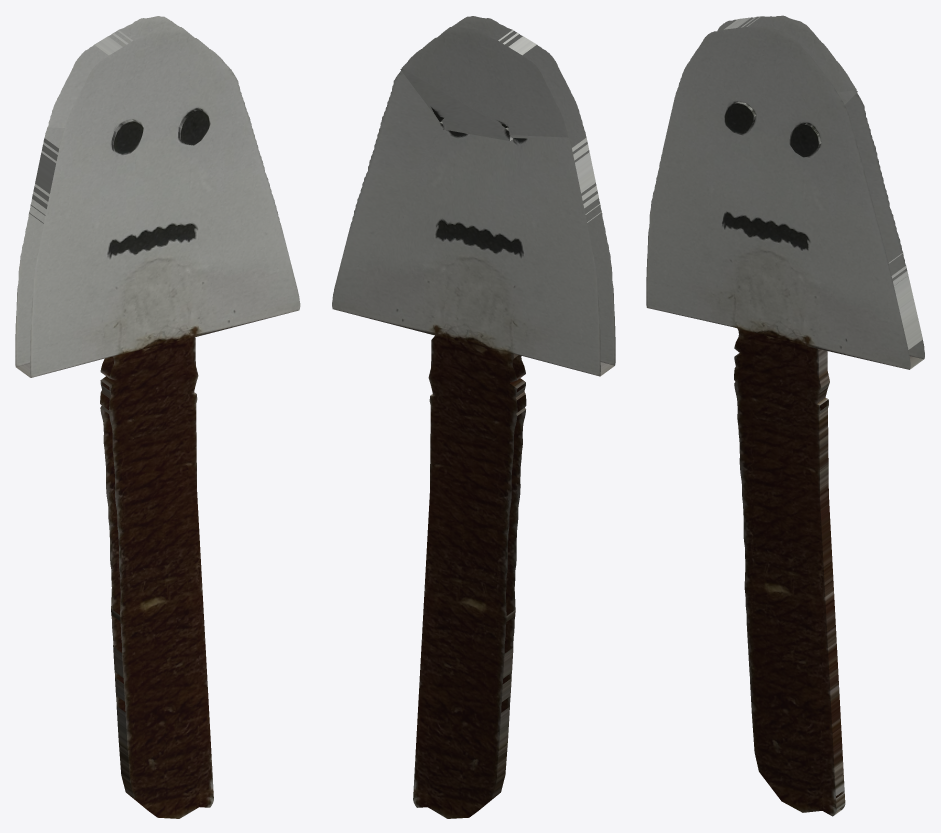
File: personaje8.fbx
3 views of the same model, side by side, from view 1: azimuth 30°, elevation 25°; view 2: azimuth 150°, elevation 25°; view 3: azimuth 330°, elevation 25° (orthographic). The views are drawn at different scales.
Visible parts, largest first — view 1: Plane; view 2: Plane; view 3: Plane.
Boxes of the visible parts, x1,y1,x2,y2 form: Plane: [15, 16, 300, 818]; Plane: [332, 16, 615, 818]; Plane: [646, 15, 924, 816].
Size of the model in its own units: 105 by 294 by 11.05.
Materials: 1 (1 with a texture image).
